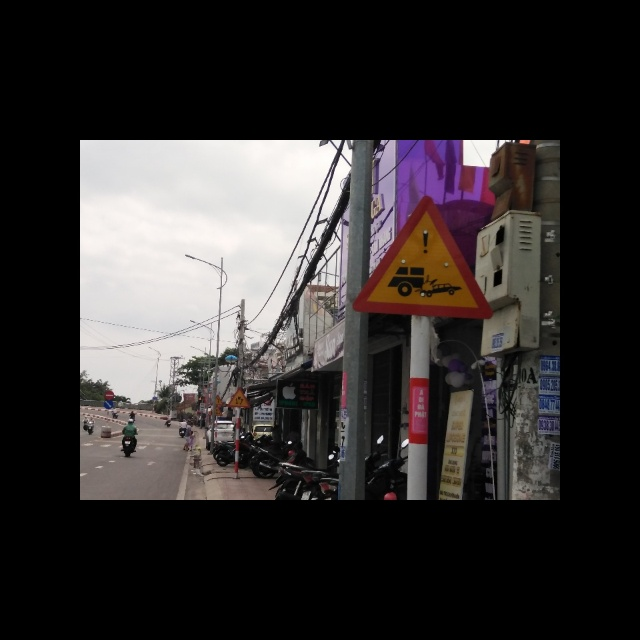Đoạn đường hay xảy ra tai nạn: (352, 193, 496, 315)
Đường đôi: (225, 385, 250, 408)
